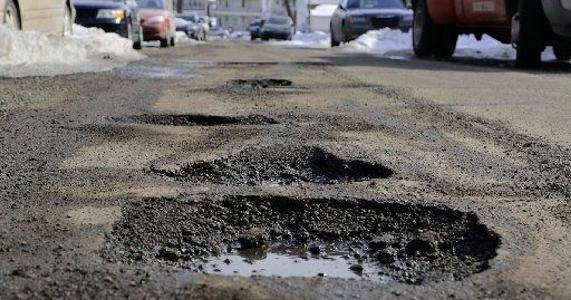pothole: (97, 191, 504, 284), (144, 141, 395, 187), (105, 110, 278, 125), (230, 74, 291, 87)
